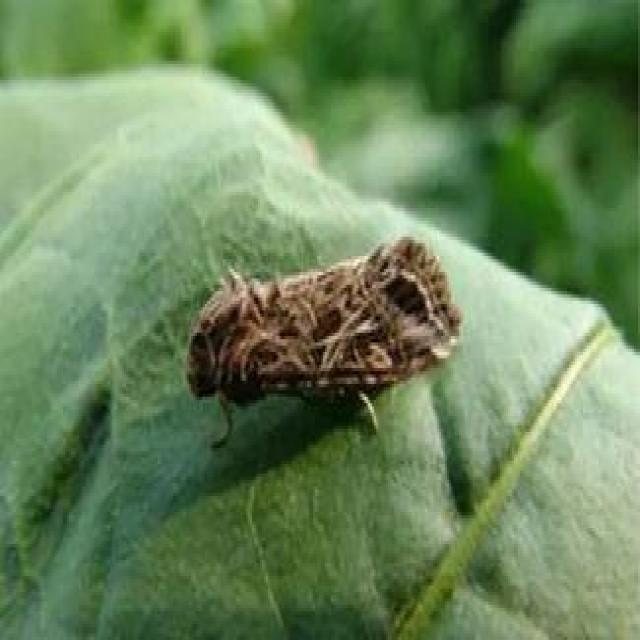BeetArmyWorm-Adult-: (164, 203, 486, 443)
